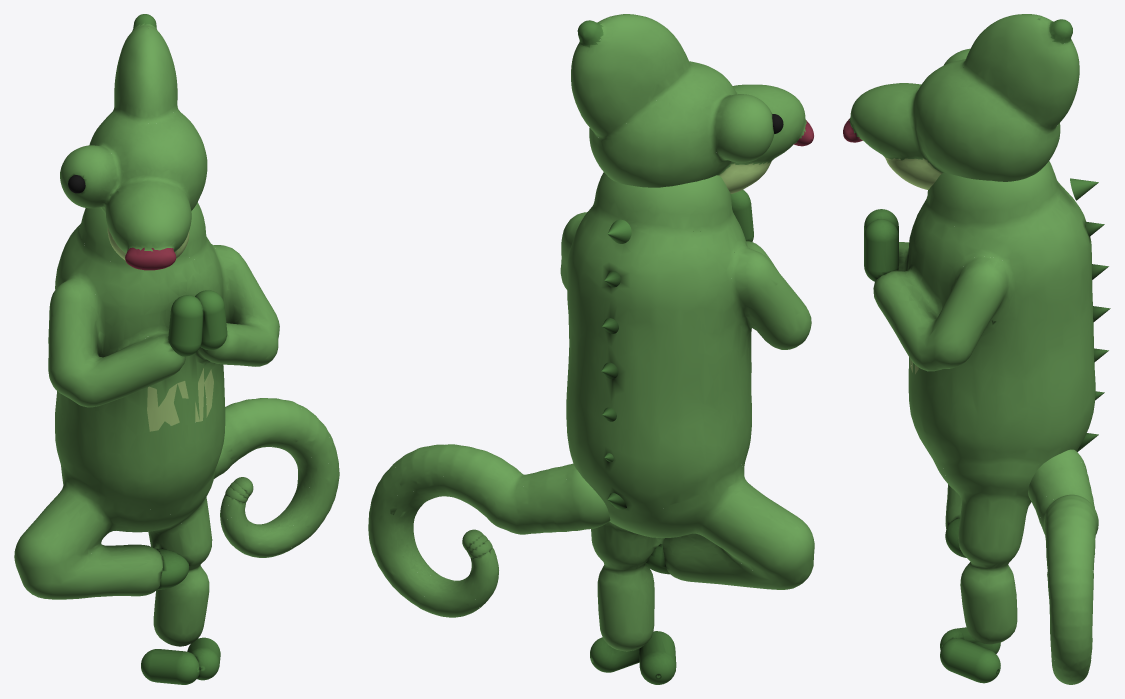
The model's file is vad-jobbar-du-med.glb.
3 renders of one model, left to right at view 1: azimuth 30°, elevation 25°; view 2: azimuth 150°, elevation 25°; view 3: azimuth 270°, elevation 25°, orthographic. The views are drawn at different scales.
Parts seen in each view (by area): view 1: camaleao__r0, cabeca__r0, cauda__r0, camaleao__r1, camaleao__r6, camaleao__r2, camaleao__r11, camaleao__r12; view 2: camaleao__r0, cabeca__r0, cauda__r0, camaleao__r6, camaleao__r11, camaleao__r1; view 3: camaleao__r0, cabeca__r0, cauda__r0, camaleao__r11, camaleao__r2, camaleao__r6, camaleao__r12.
Part boxes in pixels (x1,y1,x2,y2): camaleao__r0: (14, 202, 279, 646); cabeca__r0: (60, 14, 207, 270); cauda__r0: (214, 398, 339, 557); camaleao__r1: (168, 295, 203, 356); camaleao__r6: (141, 649, 199, 684); camaleao__r2: (195, 290, 227, 350); camaleao__r11: (187, 637, 220, 680); camaleao__r12: (157, 548, 189, 589); camaleao__r0: (560, 172, 814, 651); cabeca__r0: (571, 14, 813, 193); cauda__r0: (368, 444, 610, 617); camaleao__r6: (639, 631, 676, 684); camaleao__r11: (590, 637, 639, 672); camaleao__r1: (731, 190, 753, 241); camaleao__r0: (873, 161, 1095, 644); cabeca__r0: (843, 14, 1079, 189); cauda__r0: (1028, 449, 1098, 684); camaleao__r11: (940, 638, 1000, 683); camaleao__r2: (864, 219, 898, 281); camaleao__r6: (940, 627, 1000, 653); camaleao__r12: (945, 518, 966, 557).
Bounding box in the file's own units: 1.11 × 1.86 × 0.6928.
